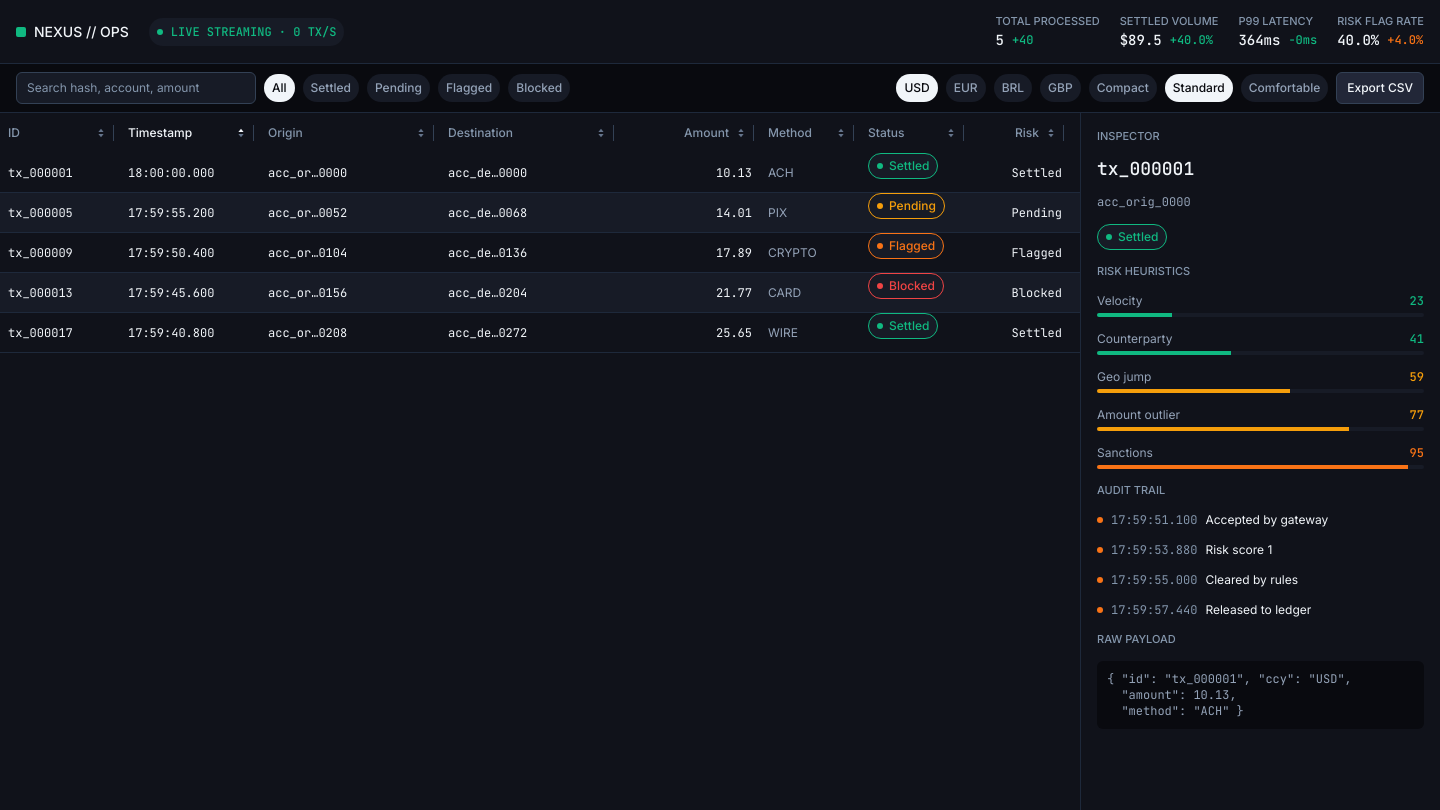
console flow › filters the ledger by status and by the search box
Click the button "Flagged" at (469, 88), box [438,74,500,102]
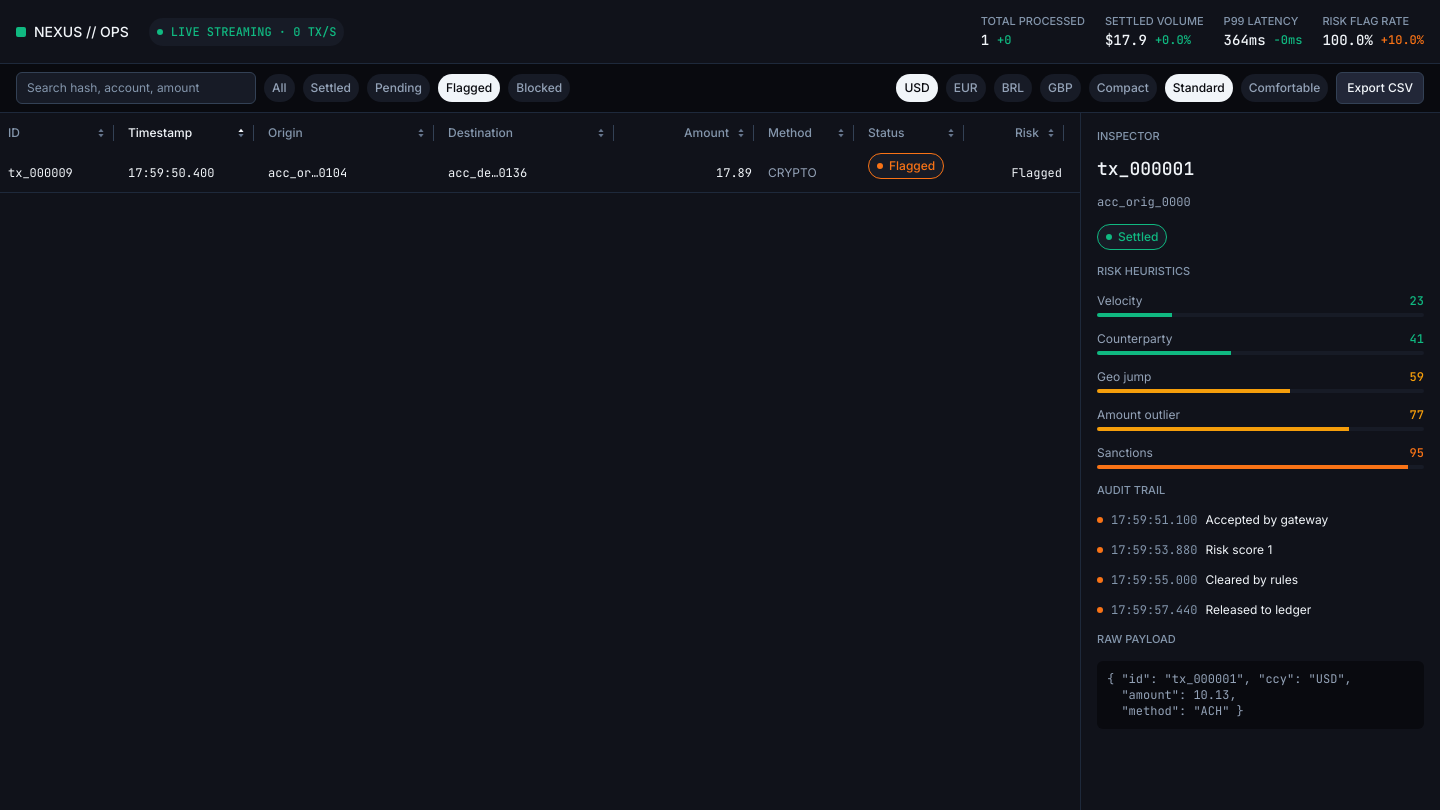
Expected: the cell "tx_000009" is shown, [8,164,73,180]
Type "tx_000005" into the field with placeholder "Search hash, account, amount" at (136, 88), box [27,80,245,96]
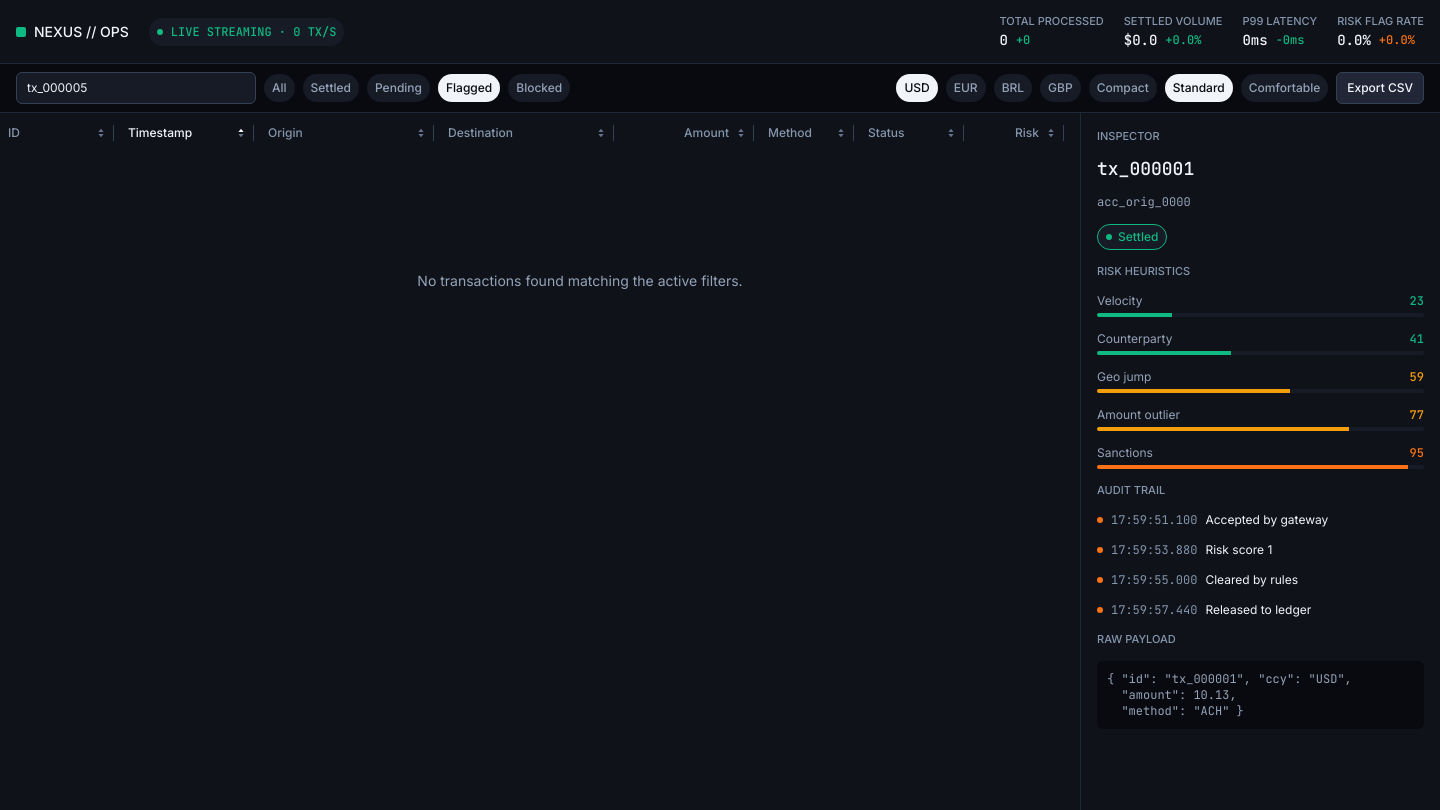
Now the text "No transactions found matching the active filters." is shown, box [417,272,743,289]
